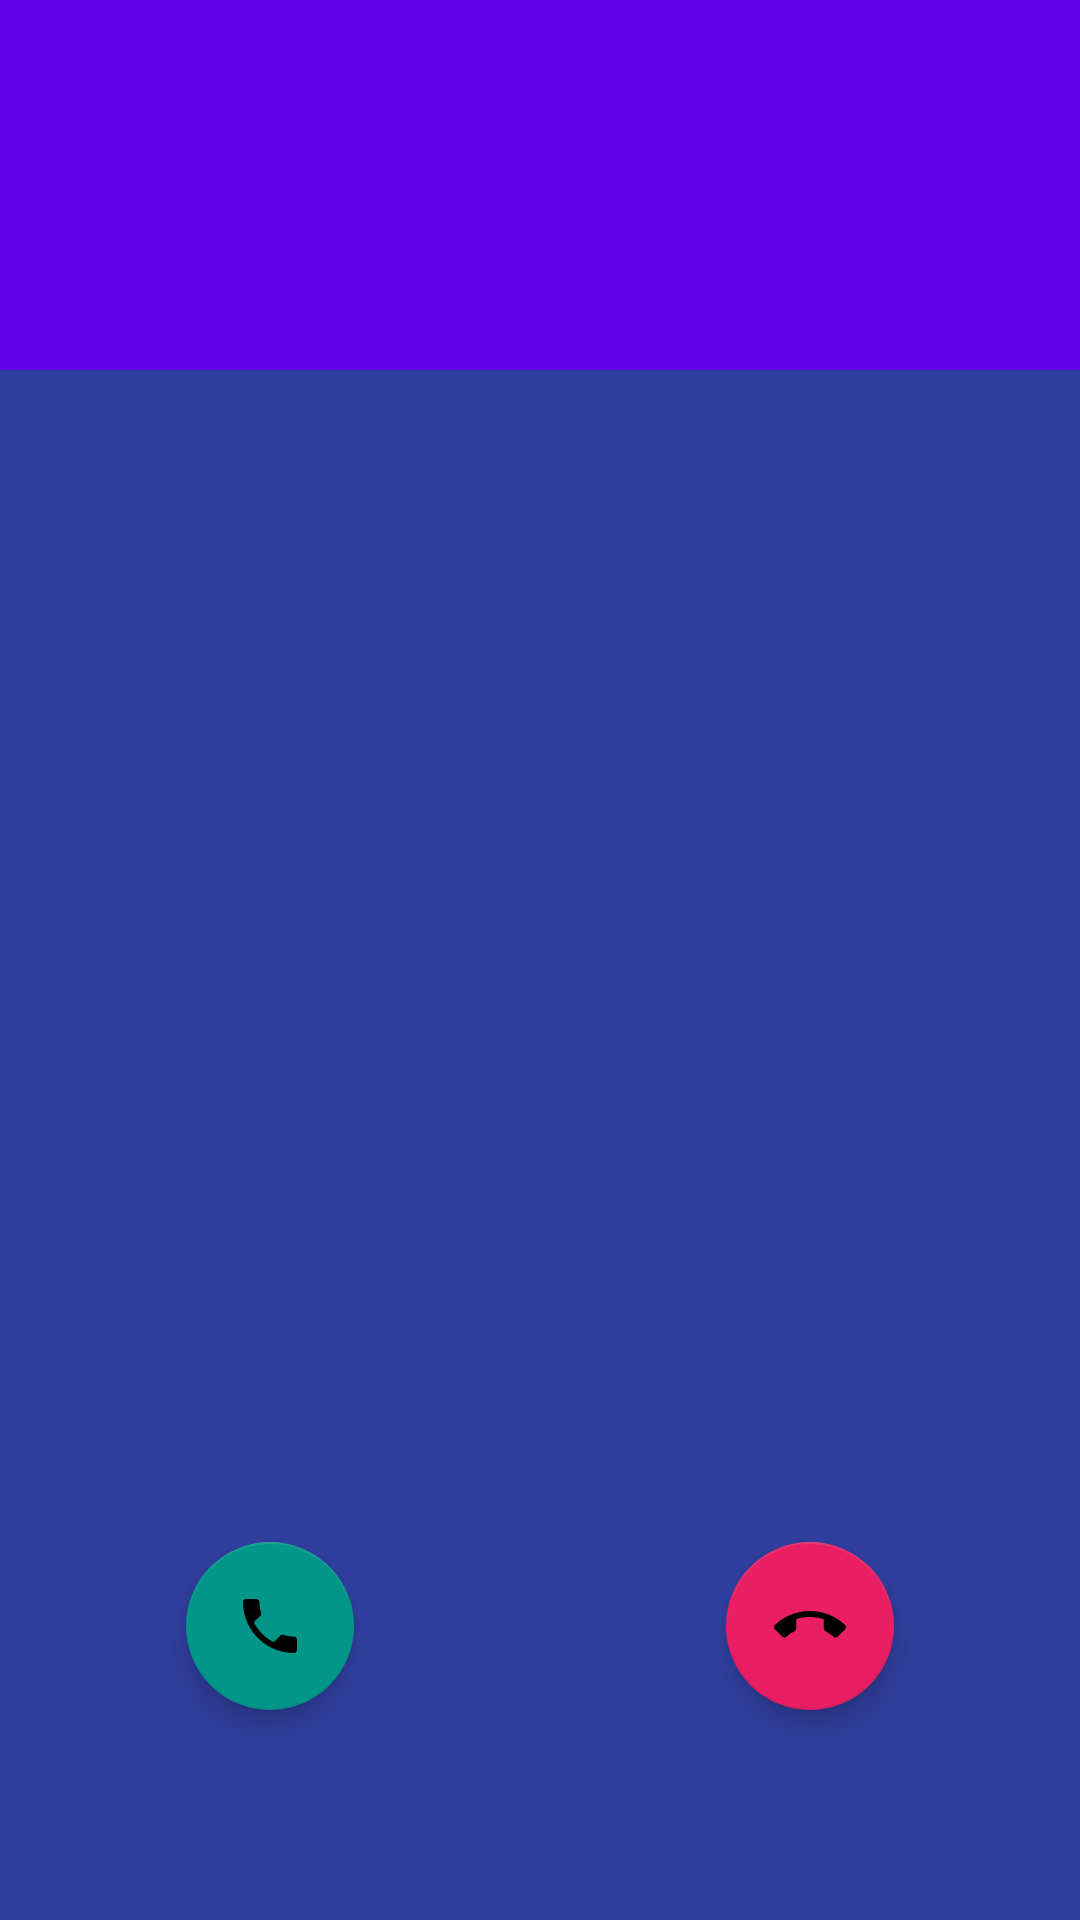

Icons on this 1080px x 1920px Android screen, each with its box as (x1, y1, x2, y2):
call: (186, 1542, 354, 1710)
call end: (726, 1542, 894, 1710)
